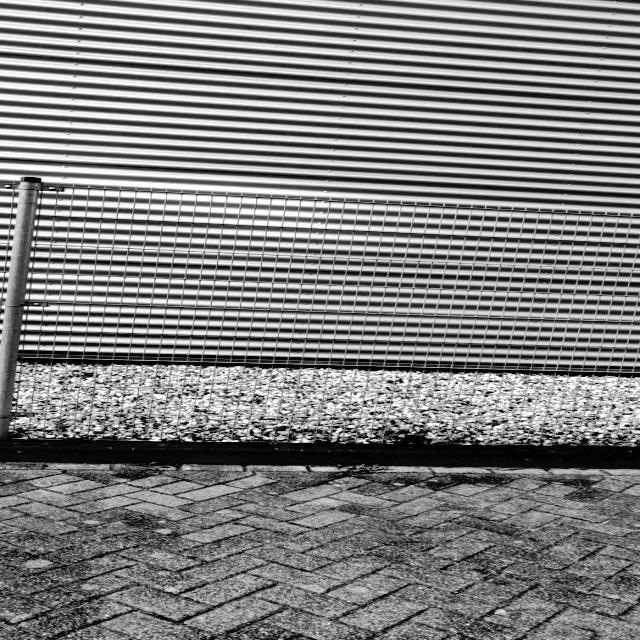fences: (12, 182, 640, 433)
